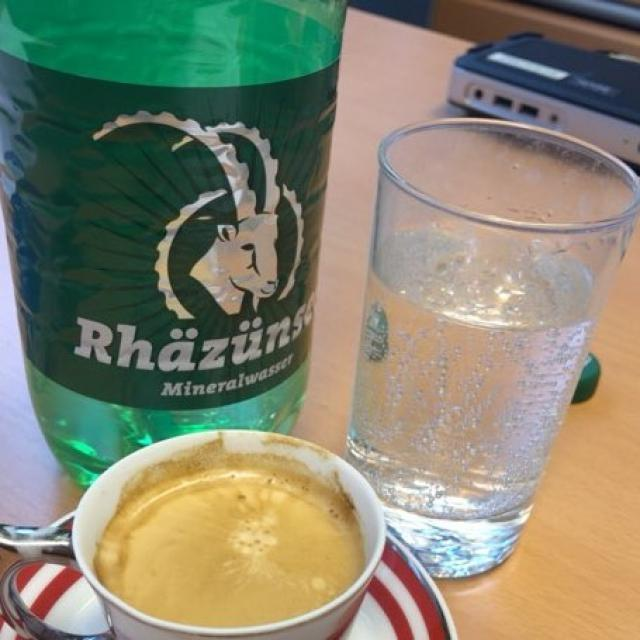coffee: (98, 472, 357, 625)
water: (353, 237, 598, 547)
